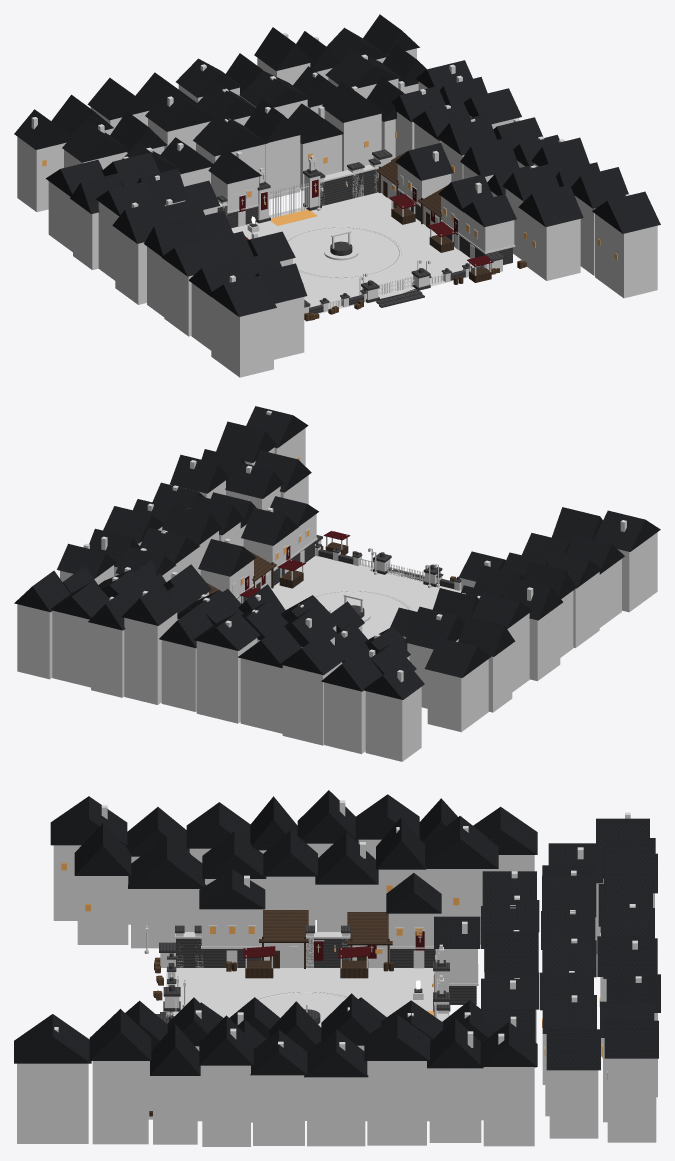
Rendered from town_well_03.fbx.
3 renders of one model, top to bottom at view 1: azimuth 30°, elevation 25°; view 2: azimuth 150°, elevation 25°; view 3: azimuth 270°, elevation 25°, orthographic. The views are drawn at different scales.
Visible parts, largest first — view 1: _MeshInstance3D_1910, _MeshInstance3D_2355, _MeshInstance3D_2232, _MeshInstance3D_2322, _MeshInstance3D_2007, _MeshInstance3D_1958, _MeshInstance3D_2219, _MeshInstance3D_1966, _MeshInstance3D_2356, _MeshInstance3D_2233, _MeshInstance3D_2323, _MeshInstance3D_1956 (+74 smaller); view 2: _MeshInstance3D_1910, _MeshInstance3D_2007, _MeshInstance3D_2019, _MeshInstance3D_2209, _MeshInstance3D_2025, _MeshInstance3D_2014, _MeshInstance3D_2016, _MeshInstance3D_2033, _MeshInstance3D_2011, _MeshInstance3D_2037, _MeshInstance3D_2022, _MeshInstance3D_2029 (+65 smaller); view 3: _MeshInstance3D_1910, _MeshInstance3D_2355, _MeshInstance3D_2334, _MeshInstance3D_2352, _MeshInstance3D_2037, _MeshInstance3D_2326, _MeshInstance3D_2337, _MeshInstance3D_2345, _MeshInstance3D_2331, _MeshInstance3D_2341, _MeshInstance3D_2204, _MeshInstance3D_2206 (+77 smaller).
Part boxes in pixels (left/top/right/bottom): _MeshInstance3D_1910: left=231, top=192, right=480, bottom=313; _MeshInstance3D_2355: left=595, top=214, right=657, bottom=298; _MeshInstance3D_2232: left=211, top=297, right=273, bottom=377; _MeshInstance3D_2322: left=521, top=210, right=580, bottom=280; _MeshInstance3D_2007: left=17, top=137, right=66, bottom=211; _MeshInstance3D_1958: left=265, top=135, right=300, bottom=199; _MeshInstance3D_2219: left=115, top=228, right=146, bottom=304; _MeshInstance3D_1966: left=324, top=110, right=381, bottom=171; _MeshInstance3D_2356: left=592, top=191, right=660, bottom=233; _MeshInstance3D_2233: left=208, top=275, right=276, bottom=316; _MeshInstance3D_2323: left=518, top=184, right=583, bottom=226; _MeshInstance3D_1956: left=193, top=112, right=267, bottom=156; _MeshInstance3D_1910: left=271, top=556, right=461, bottom=639; _MeshInstance3D_2007: left=365, top=687, right=421, bottom=761; _MeshInstance3D_2019: left=196, top=638, right=257, bottom=723; _MeshInstance3D_2209: left=427, top=659, right=488, bottom=732; _MeshInstance3D_2025: left=124, top=612, right=177, bottom=704; _MeshInstance3D_2014: left=282, top=662, right=342, bottom=745; _MeshInstance3D_2016: left=240, top=658, right=282, bottom=733; _MeshInstance3D_2033: left=52, top=610, right=90, bottom=687; _MeshInstance3D_2011: left=324, top=682, right=365, bottom=753; _MeshInstance3D_2037: left=17, top=604, right=52, bottom=679; _MeshInstance3D_2022: left=161, top=640, right=196, bottom=711; _MeshInstance3D_2029: left=91, top=623, right=124, bottom=697; _MeshInstance3D_1910: left=166, top=968, right=433, bottom=1017; _MeshInstance3D_2355: left=17, top=1063, right=88, bottom=1143; _MeshInstance3D_2334: left=367, top=1061, right=426, bottom=1145; _MeshInstance3D_2352: left=92, top=1061, right=148, bottom=1144; _MeshInstance3D_2037: left=607, top=1058, right=656, bottom=1142; _MeshInstance3D_2326: left=483, top=1067, right=534, bottom=1146; _MeshInstance3D_2337: left=307, top=1077, right=365, bottom=1146; _MeshInstance3D_2345: left=202, top=1065, right=250, bottom=1146; _MeshInstance3D_2331: left=429, top=1068, right=481, bottom=1142; _MeshInstance3D_2341: left=253, top=1075, right=304, bottom=1145; _MeshInstance3D_2204: left=131, top=889, right=201, bottom=948; _MeshInstance3D_2206: left=77, top=876, right=128, bottom=944.
Size of what is drawn, in the model's own units: 6103 by 1532 by 6673.
18 materials, 5 textured.
